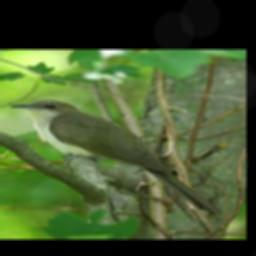Cuckoo: (9, 99, 224, 217)
